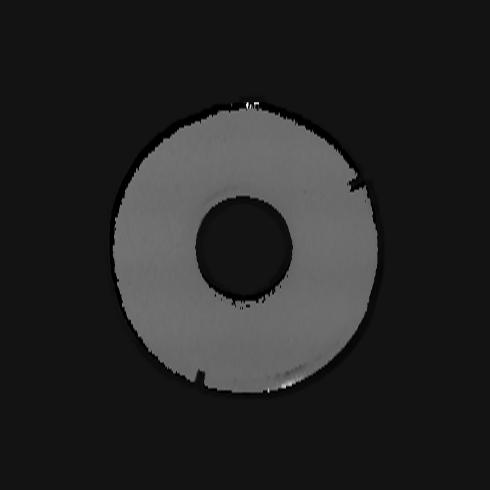defect: (346, 172, 366, 194), (194, 368, 206, 386)
